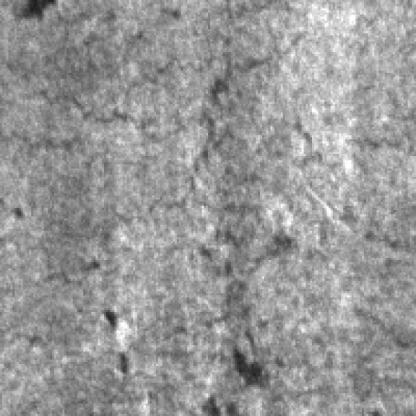crazing: (193, 128, 416, 255), (6, 46, 231, 152)
